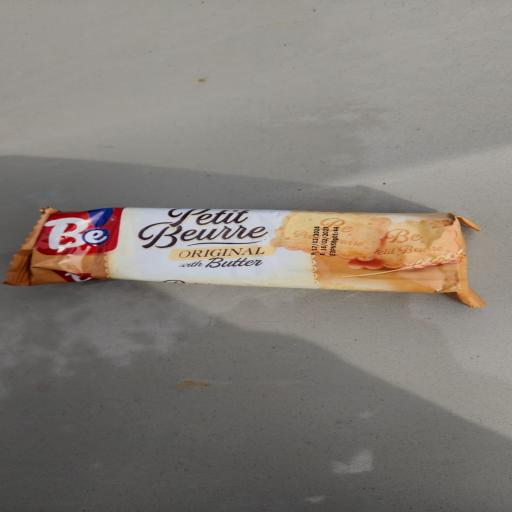petit_beurre: (3, 188, 512, 355)
